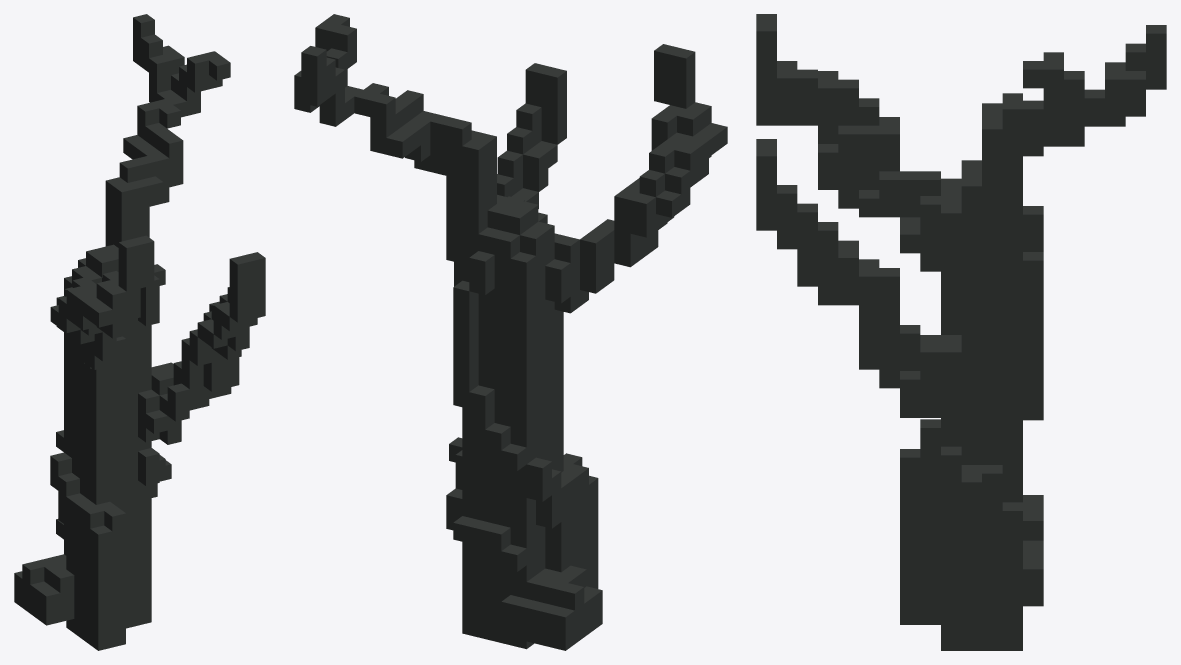
File: DeadTree2.fbx
The picture shows the model from 3 angles, left to right: view 1: azimuth 30°, elevation 25°; view 2: azimuth 150°, elevation 25°; view 3: azimuth 270°, elevation 25°; orthographic projection. The views are drawn at different scales.
Visible parts, largest first — view 1: Matrix; view 2: Matrix; view 3: Matrix.
Boxes of the visible parts, x1,y1,x2,y2 form: Matrix: [14, 14, 265, 650]; Matrix: [294, 14, 727, 650]; Matrix: [756, 14, 1166, 650].
Size of the model in its own units: 17 by 36 by 20.
1 material, 1 textured.
